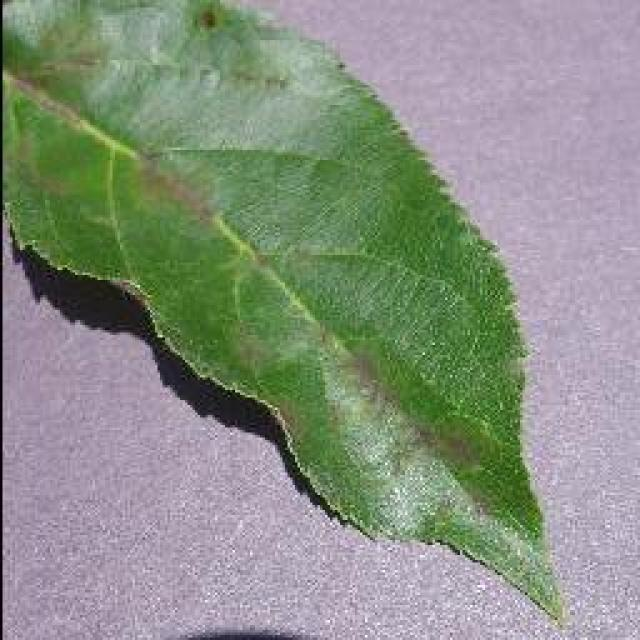apple scab disease: (0, 0, 568, 628)
